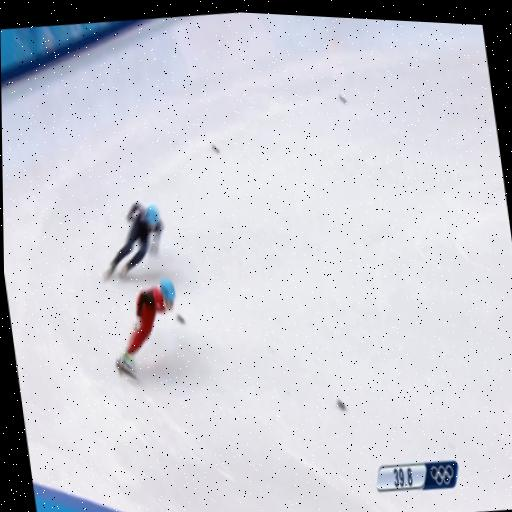Skater: (116, 278, 175, 378), (104, 202, 164, 279)
